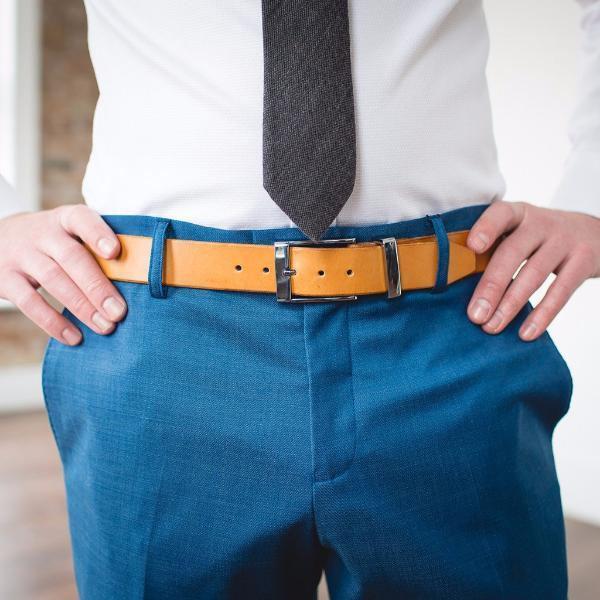F_belt: (87, 230, 495, 294)
F_dress pants: (62, 220, 570, 600)
F_tie: (254, 1, 369, 227)
